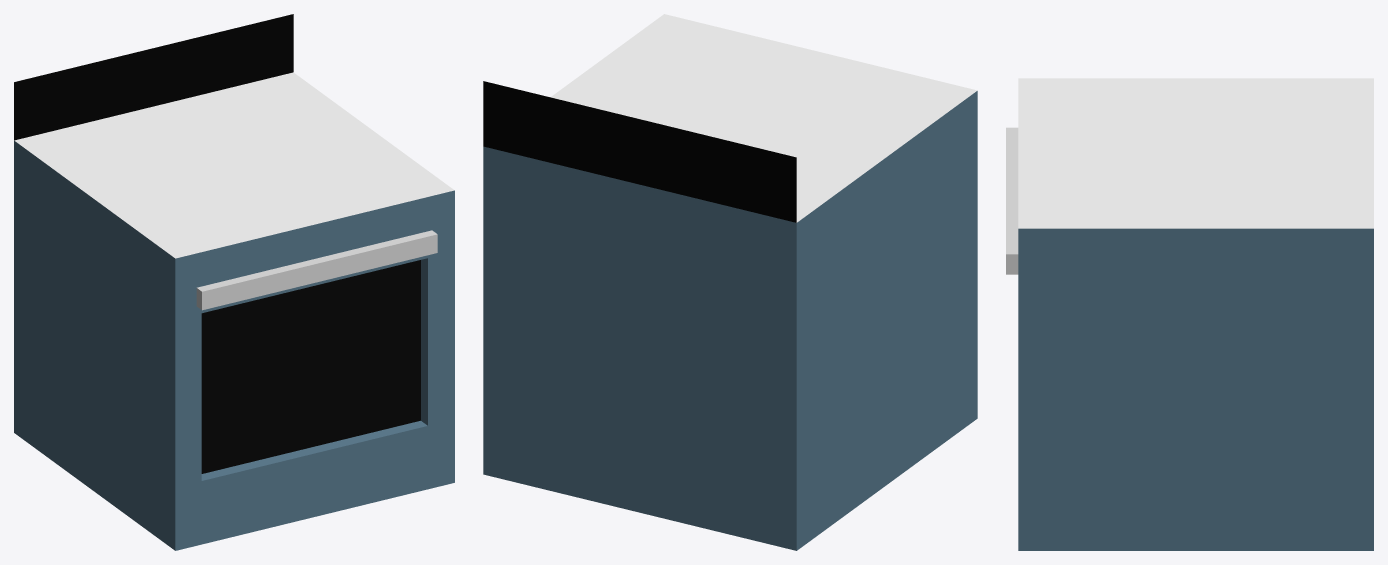
The model's file is Stove Kitchen.fbx.
3 renders of one model, left to right at view 1: azimuth 30°, elevation 25°; view 2: azimuth 150°, elevation 25°; view 3: azimuth 270°, elevation 25°, orthographic. The views are drawn at different scales.
Visible parts, largest first — view 1: Stove, Oven; view 2: Stove; view 3: Stove, Oven.
Boxes of the visible parts, x1,y1,x2,y2 form: Stove: (14,14,454,550); Oven: (196,230,437,310); Stove: (483,14,977,550); Stove: (1018,78,1373,550); Oven: (1006,127,1018,274).
Bounding box in the file's own units: 200 × 240 × 207.
